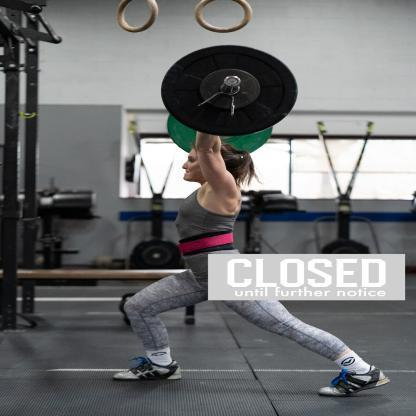barbell: (160, 43, 300, 160)
